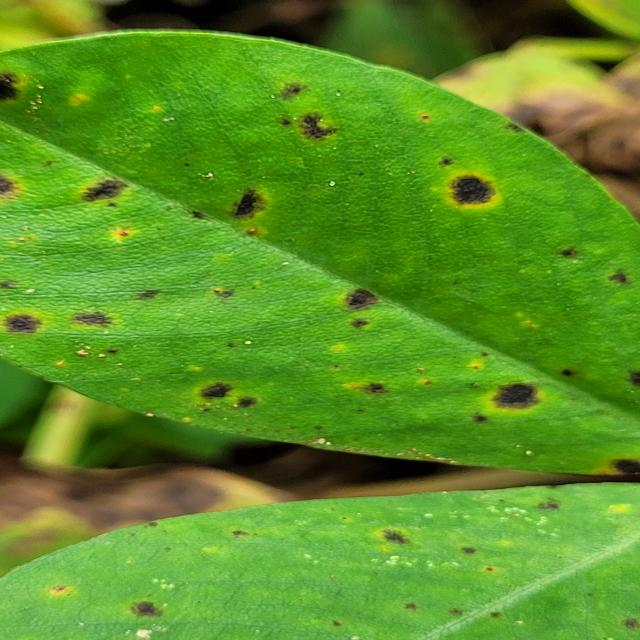Ground nut_tikka leaf spot: (0, 24, 640, 478)
